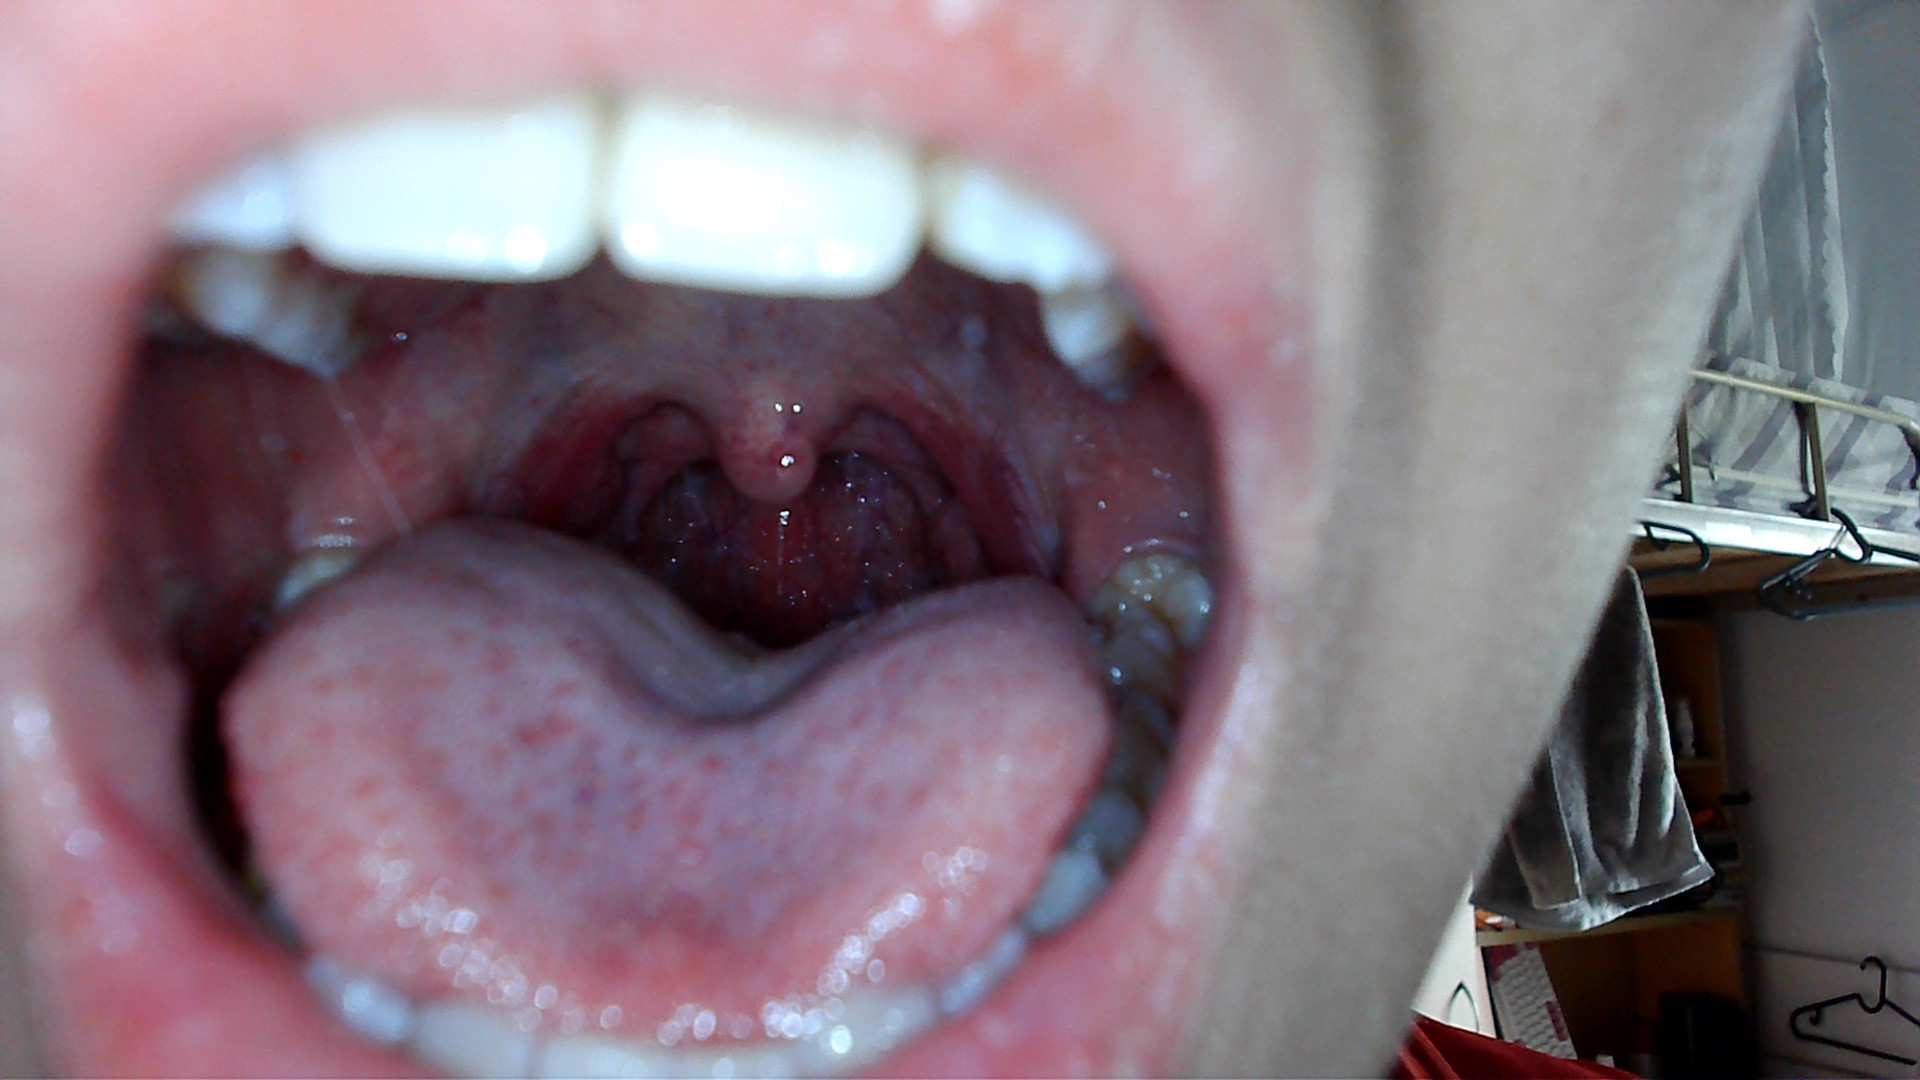throat: (914, 392, 1054, 564), (487, 372, 618, 527)
